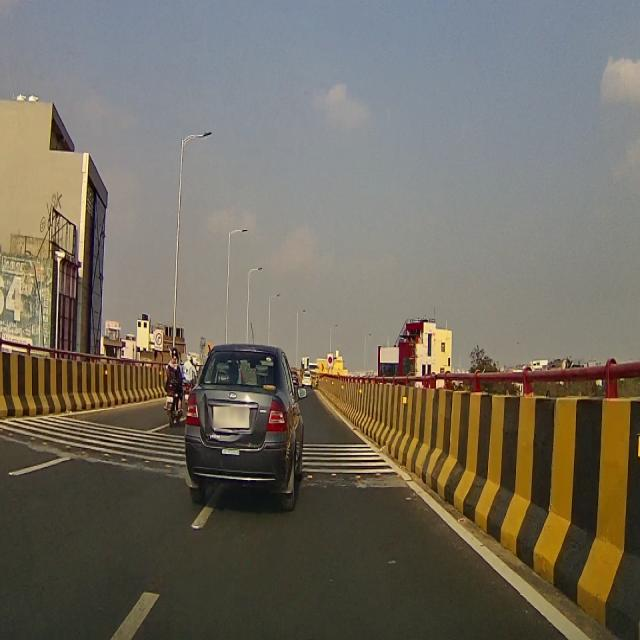car ahead at: (182, 341, 310, 502)
